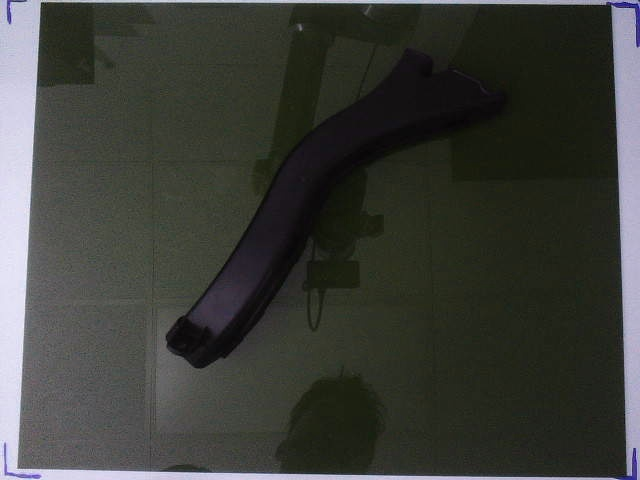887_B-Top: (165, 47, 508, 369)
